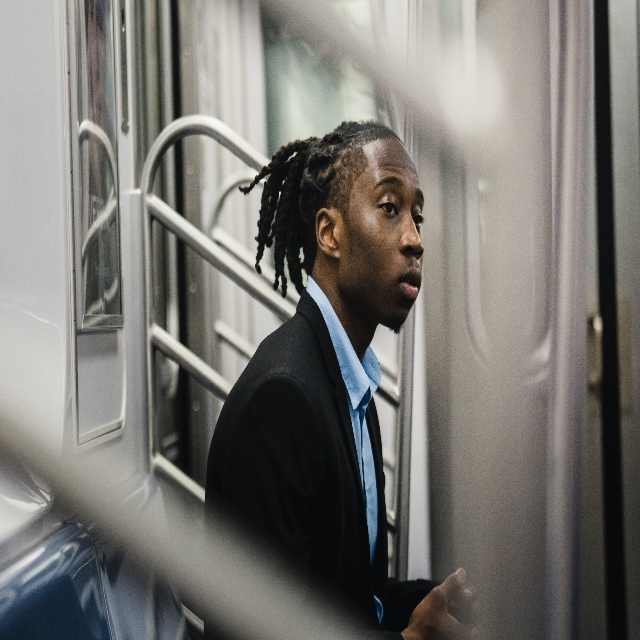Sin_guantes: (411, 568, 479, 640)
